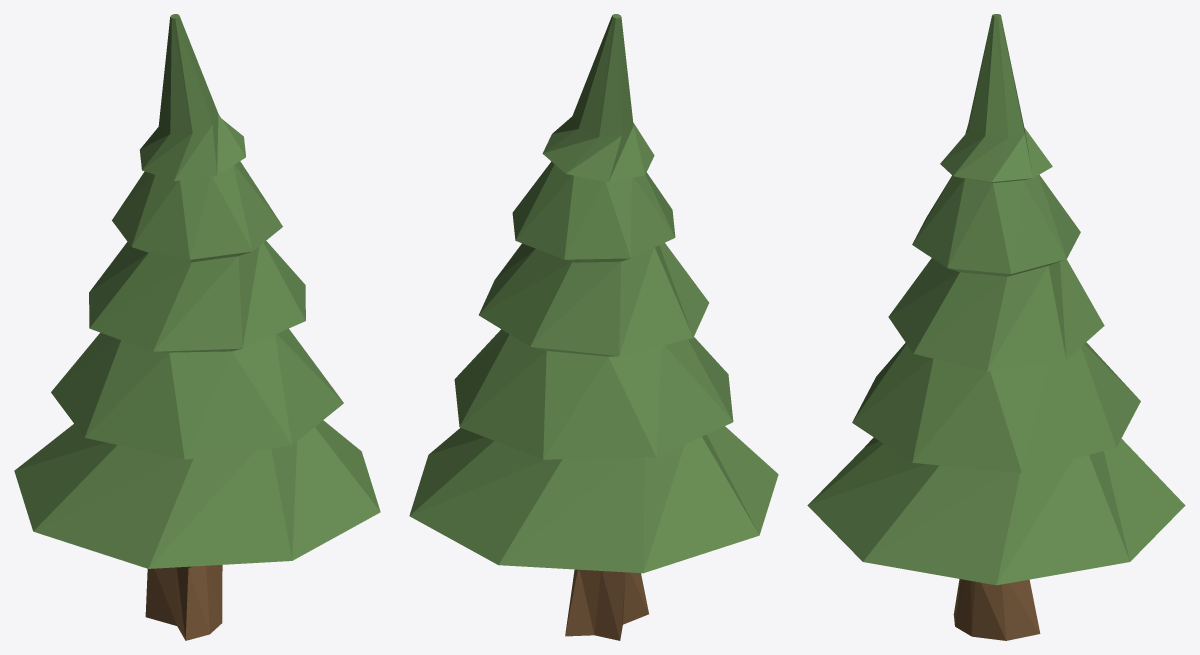
The model's file is tree3d-154.glb.
3 renders of one model, left to right at view 1: azimuth 30°, elevation 25°; view 2: azimuth 150°, elevation 25°; view 3: azimuth 270°, elevation 25°, orthographic.
Visible parts, largest first — view 1: tree3d-154; view 2: tree3d-154; view 3: tree3d-154.
Boxes of the visible parts, x1,y1,x2,y2 form: tree3d-154: [14, 14, 380, 640]; tree3d-154: [409, 14, 778, 640]; tree3d-154: [807, 14, 1185, 640].
Size of the model in its own units: 0.5664 by 1 by 0.5664.
